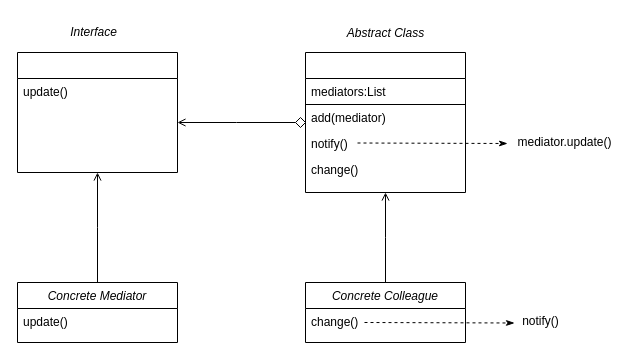
This 642x360 diagram has some shape labels left out. The shapes that lost their labels are listed below. From the top down, each one's box as (x1, y1, x2, y2) in pixels, then its label:
(16, 52, 178, 172): Mediator
(304, 52, 466, 192): Colleague
